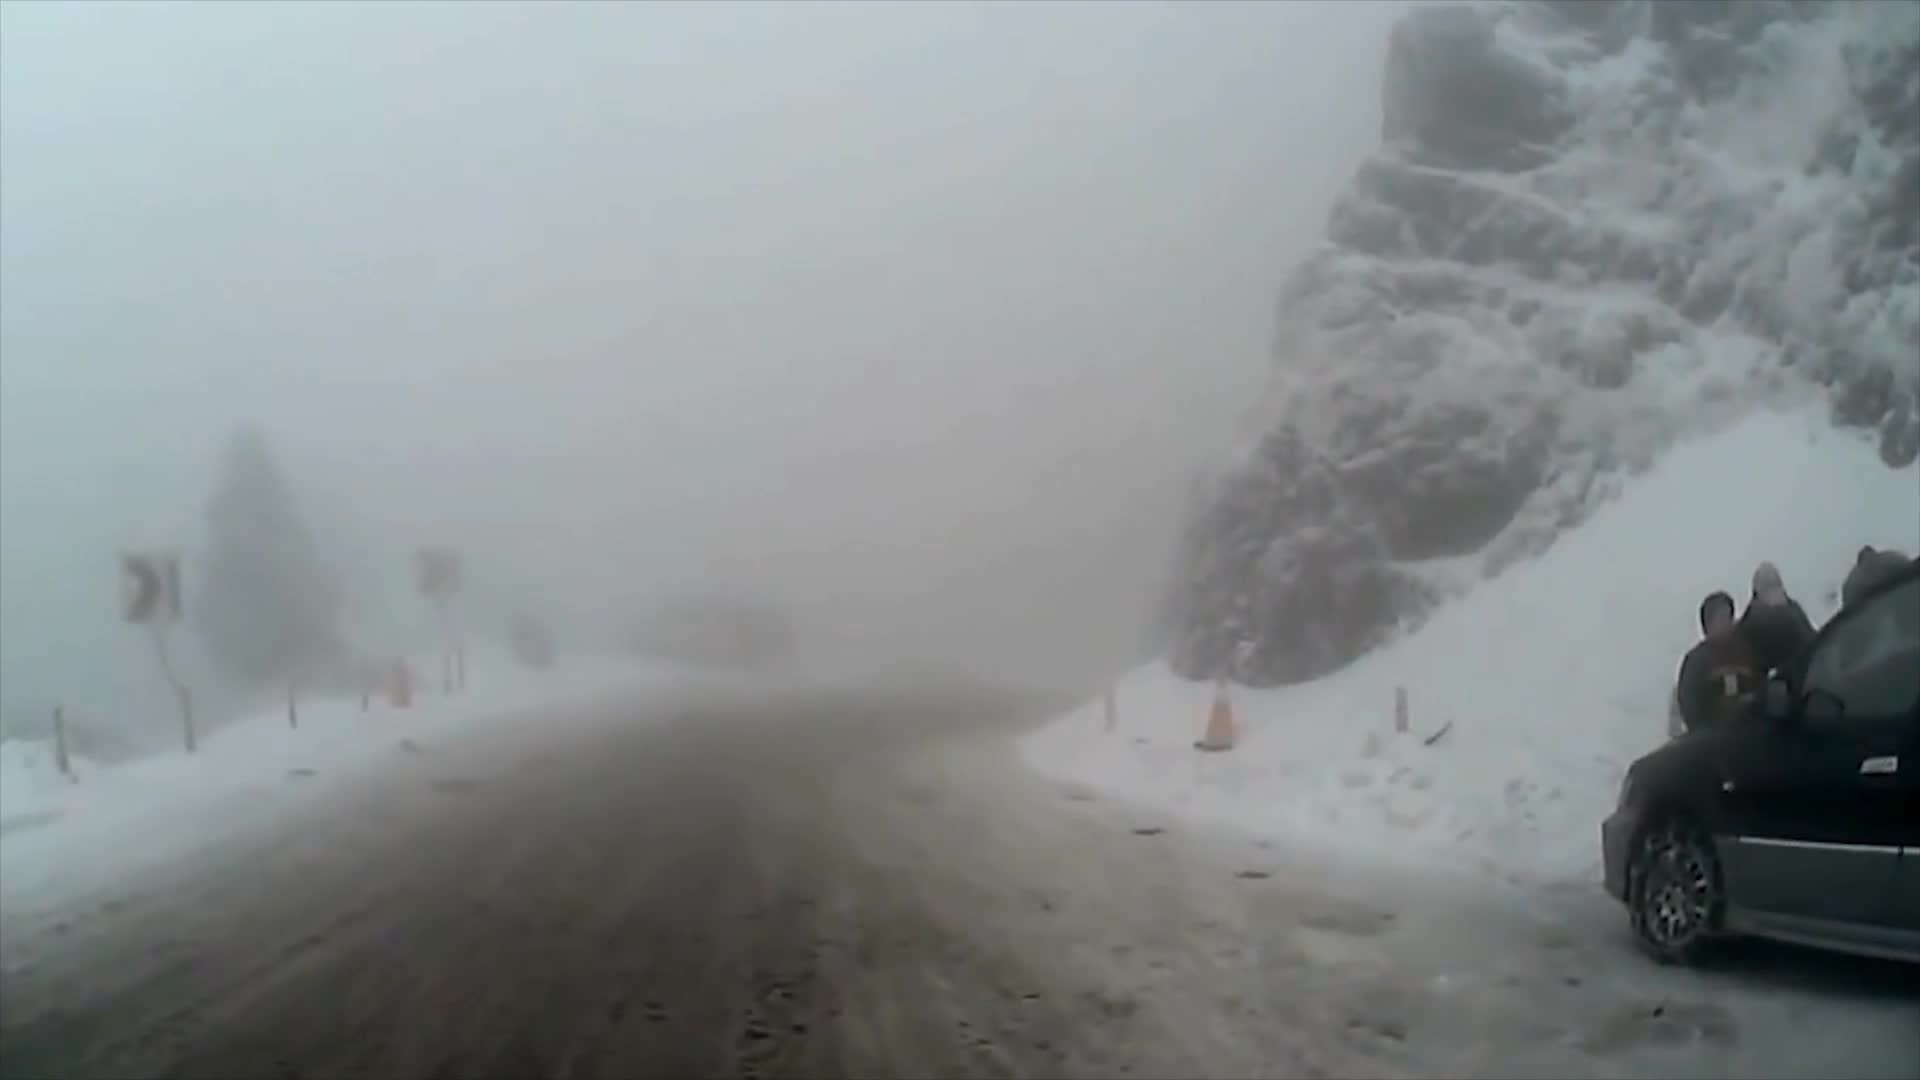pedestrian: (1675, 595, 1772, 905), (1741, 567, 1830, 855)
vehicle: (1599, 567, 1920, 975)
